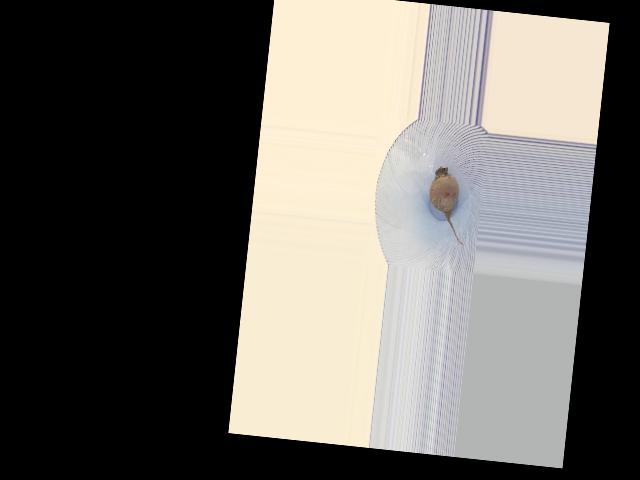beet: (425, 165, 471, 244)
